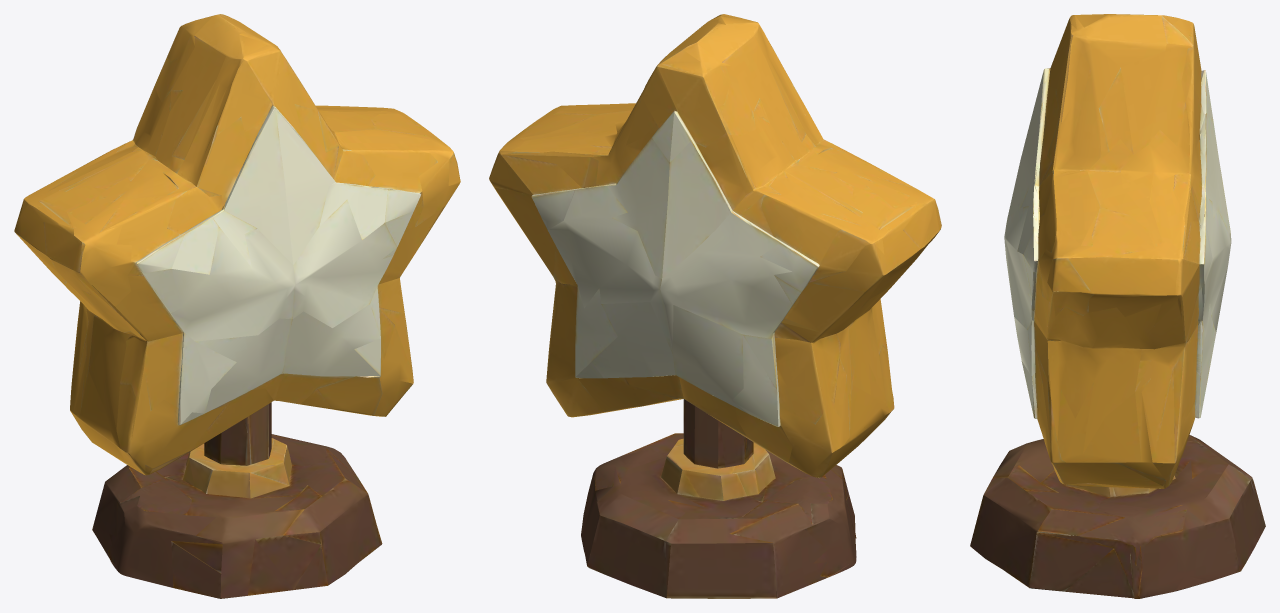
Rendered from starLamp.glb.
3 views of the same model, side by side, from view 1: azimuth 30°, elevation 25°; view 2: azimuth 150°, elevation 25°; view 3: azimuth 270°, elevation 25° (orthographic). The views are drawn at different scales.
Parts seen in each view (by area): view 1: Mesh_0; view 2: Mesh_0; view 3: Mesh_0.
Part boxes in pixels (bbox=[...]): Mesh_0: bbox=[14, 14, 460, 598]; Mesh_0: bbox=[489, 14, 941, 598]; Mesh_0: bbox=[970, 14, 1265, 598].
Size of the model in its own units: 1.62 by 2 by 1.02.
1 material, 1 textured.
